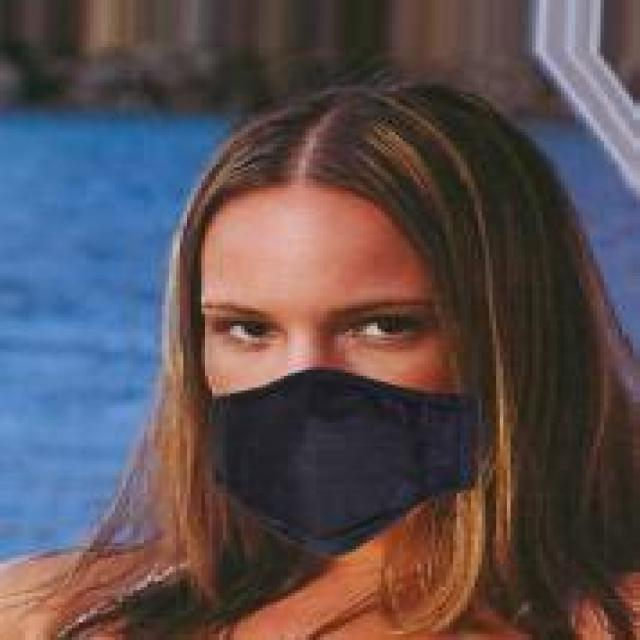mask: (180, 106, 615, 546)
